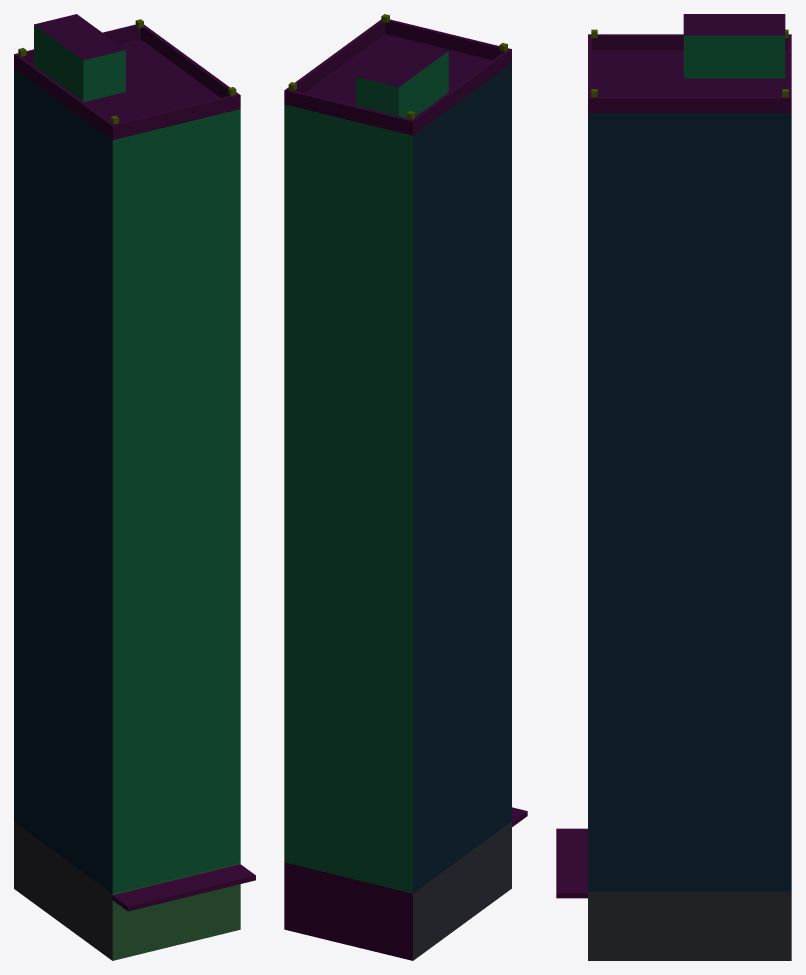
The model's file is slab_e.lod2.glb.
3 renders of one model, left to right at view 1: azimuth 30°, elevation 25°; view 2: azimuth 150°, elevation 25°; view 3: azimuth 270°, elevation 25°, orthographic. The views are drawn at different scales.
Visible parts, largest first — view 1: slab_e.lod2; view 2: slab_e.lod2; view 3: slab_e.lod2.
Part boxes in pixels (left/top/right/bottom): slab_e.lod2: left=14, top=14, right=255, bottom=960; slab_e.lod2: left=284, top=14, right=527, bottom=960; slab_e.lod2: left=556, top=14, right=791, bottom=960.
Bounding box in the file's own units: 9.6 × 61.8 × 14.8.
